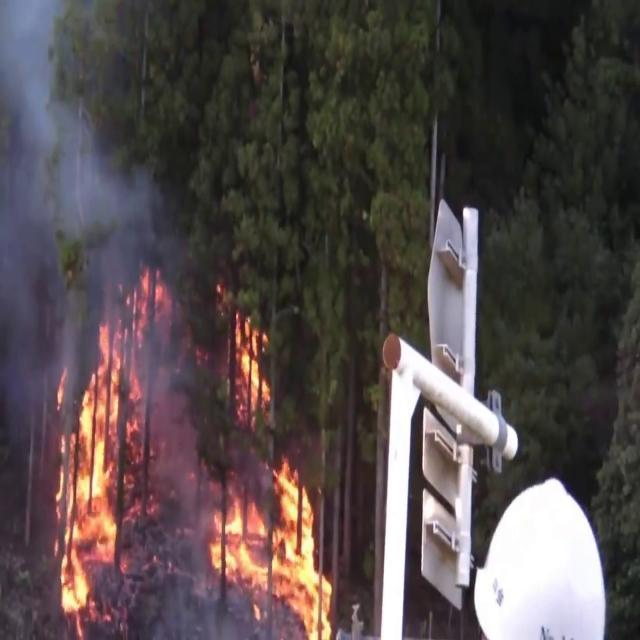Fire: (43, 262, 176, 626), (198, 450, 344, 640), (228, 308, 274, 420)
Smoke: (0, 0, 170, 429)
